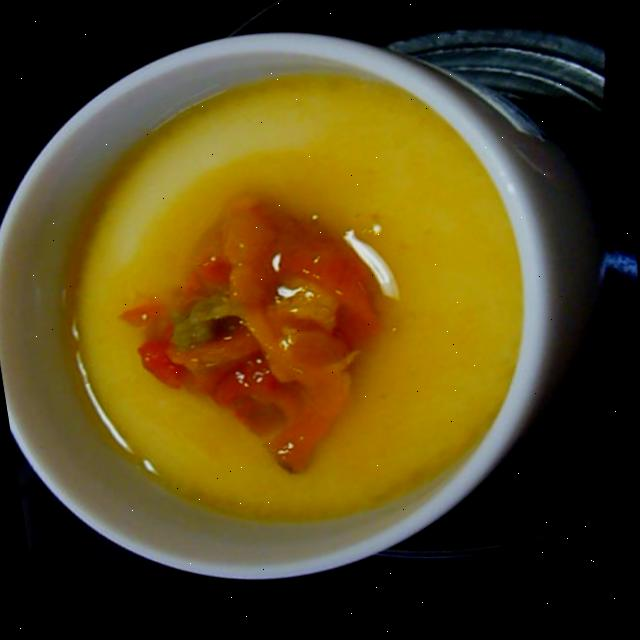鸡蛋料理: (0, 0, 640, 617)
